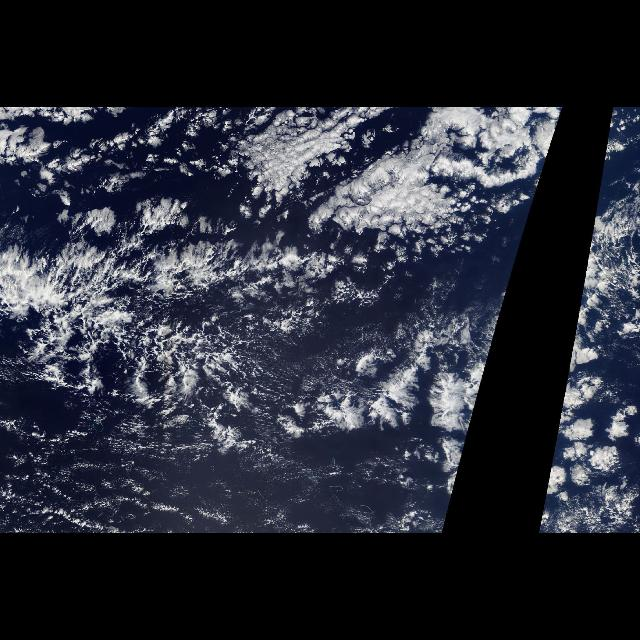Fish: (7, 211, 451, 491)
Flower: (326, 112, 562, 496), (546, 112, 634, 496)
Gravel: (62, 258, 252, 408)
